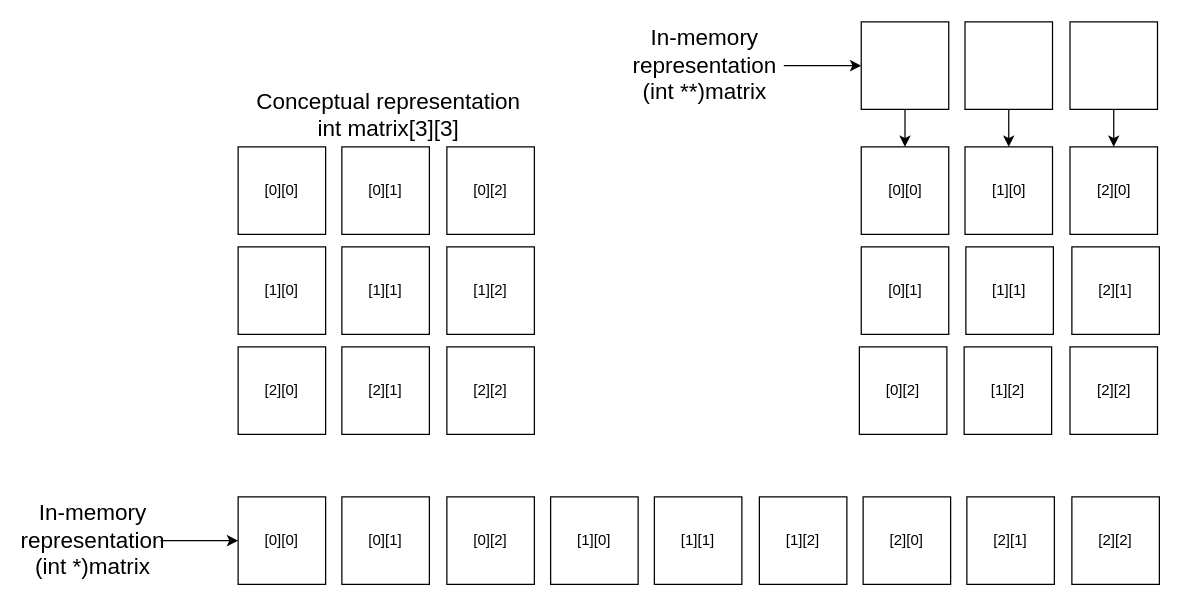
The diagram is 1181 pixels wide and 606 high, and some of its shapes have lost their labels. Here are the shapes that lost their labels. From the top down, the centre of each, then its label:
At (904,65): "int *row_0".
At (1008,65): "int *row_1".
At (1113,65): "int *row_2".
